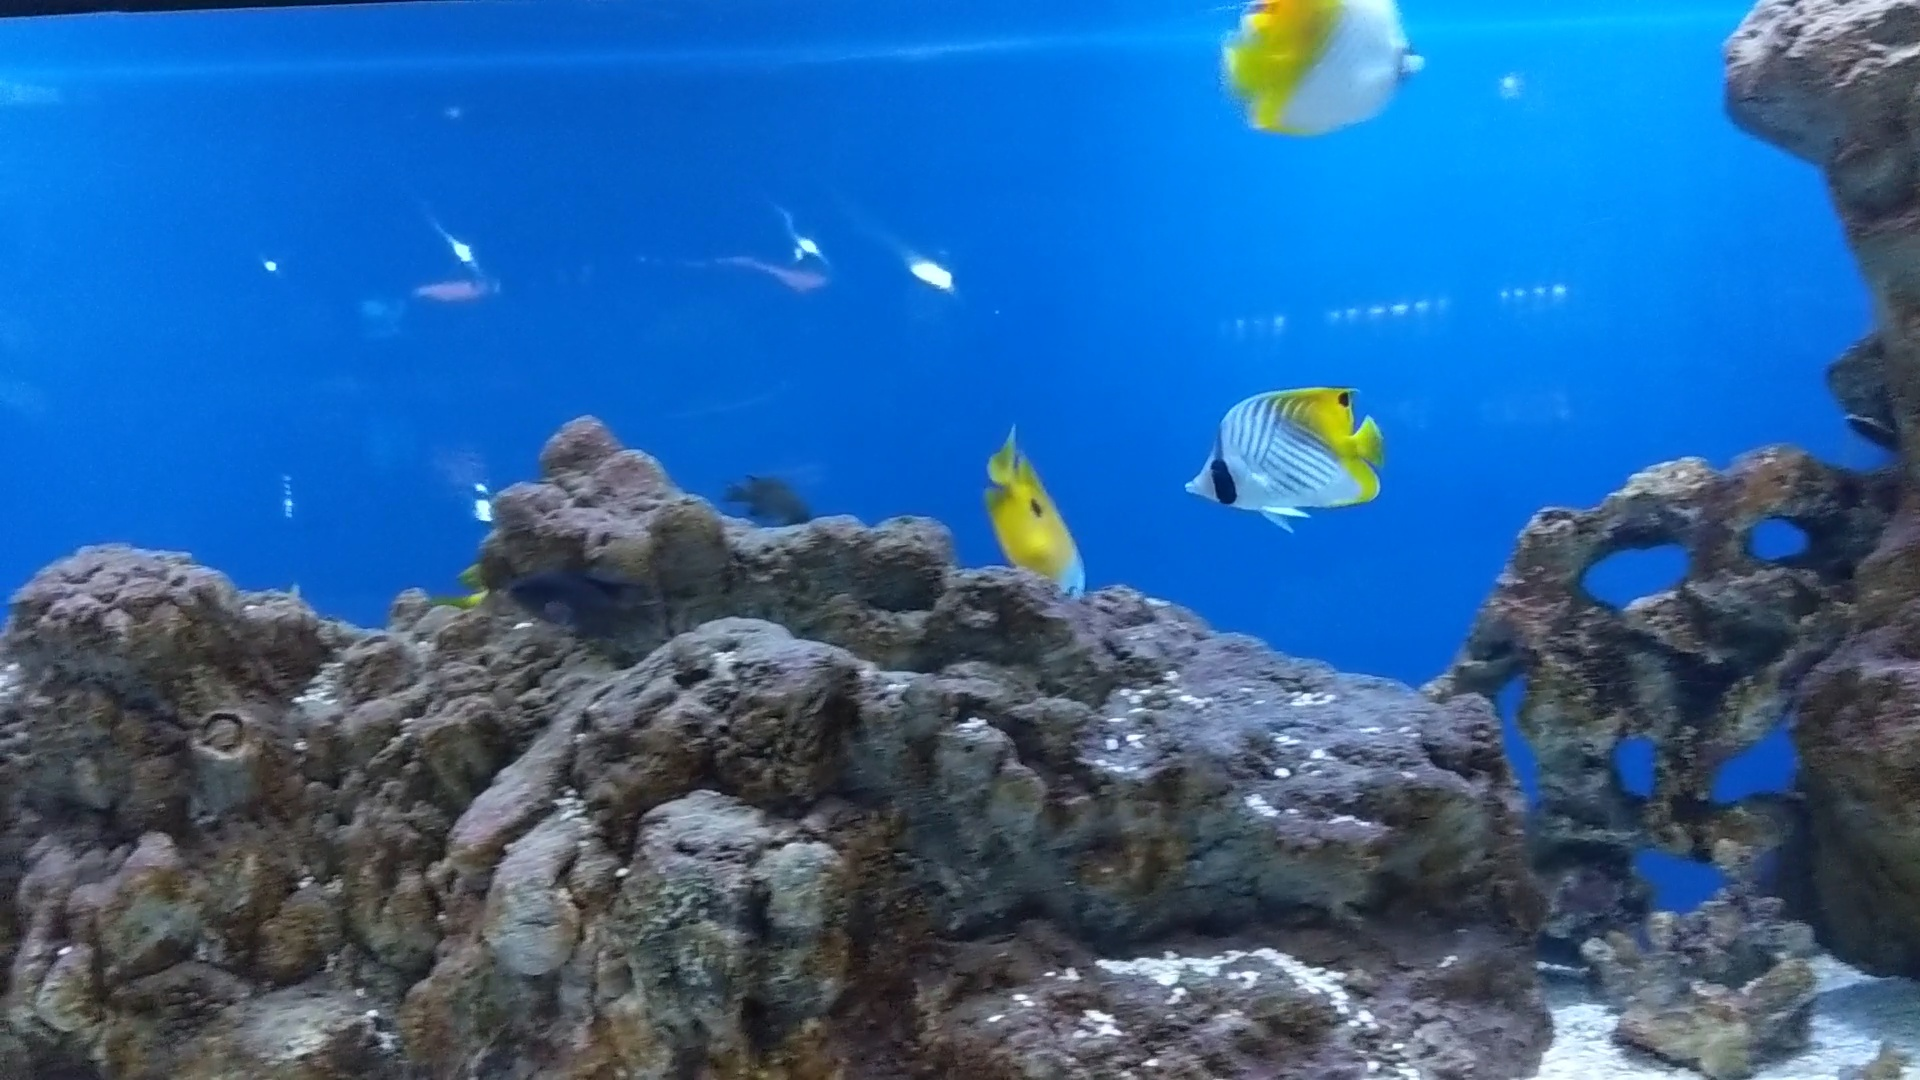butterflyfish: (1168, 382, 1377, 510), (1203, 0, 1408, 127)
rabbitfish: (963, 417, 1095, 592)
